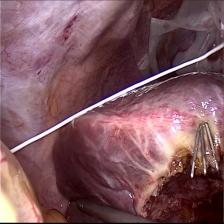Irrigator: (74, 194, 92, 218)
Specimen Bag: (136, 0, 224, 81)
